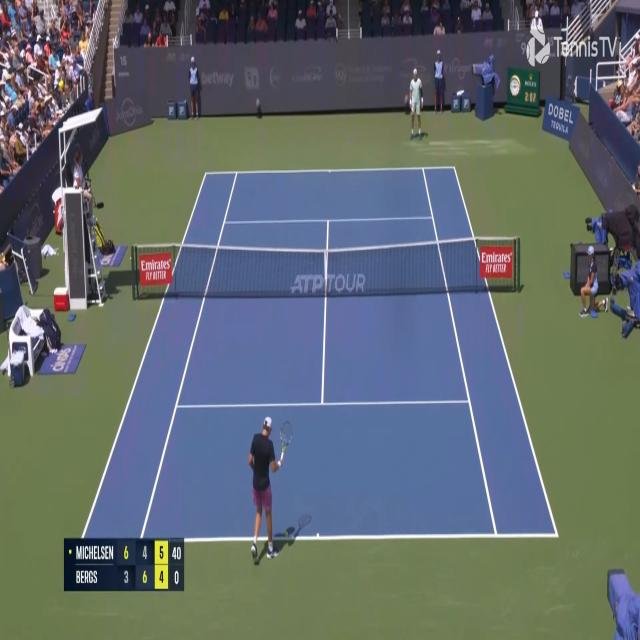tennis-player: (247, 415, 287, 566), (406, 67, 426, 142)
